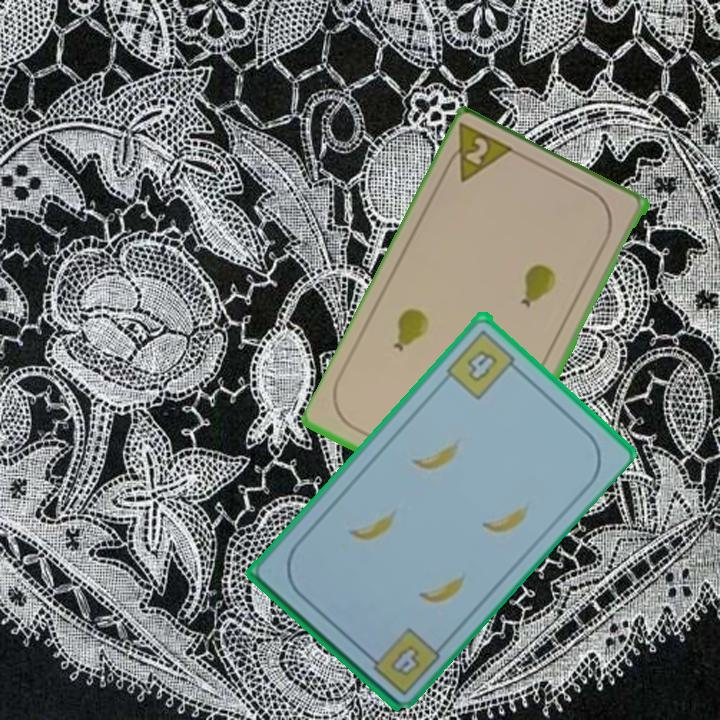2p: (439, 120, 520, 187)
4b: (443, 325, 524, 402), (360, 623, 443, 698)
